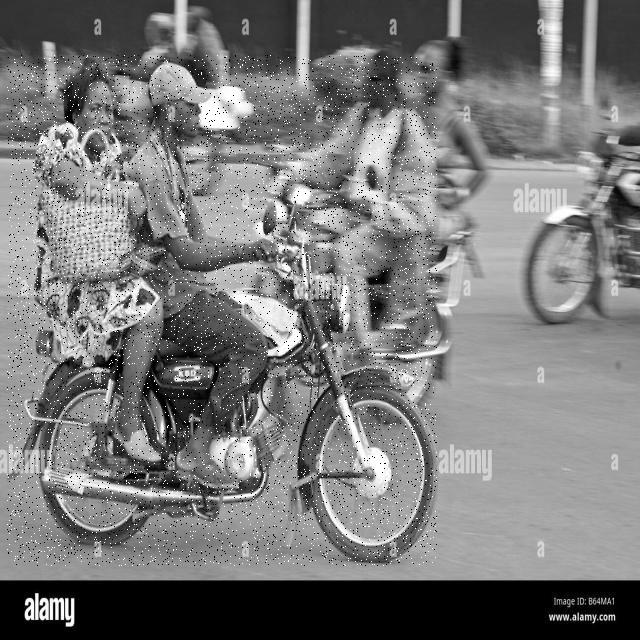Motorbike: (7, 55, 437, 566)
